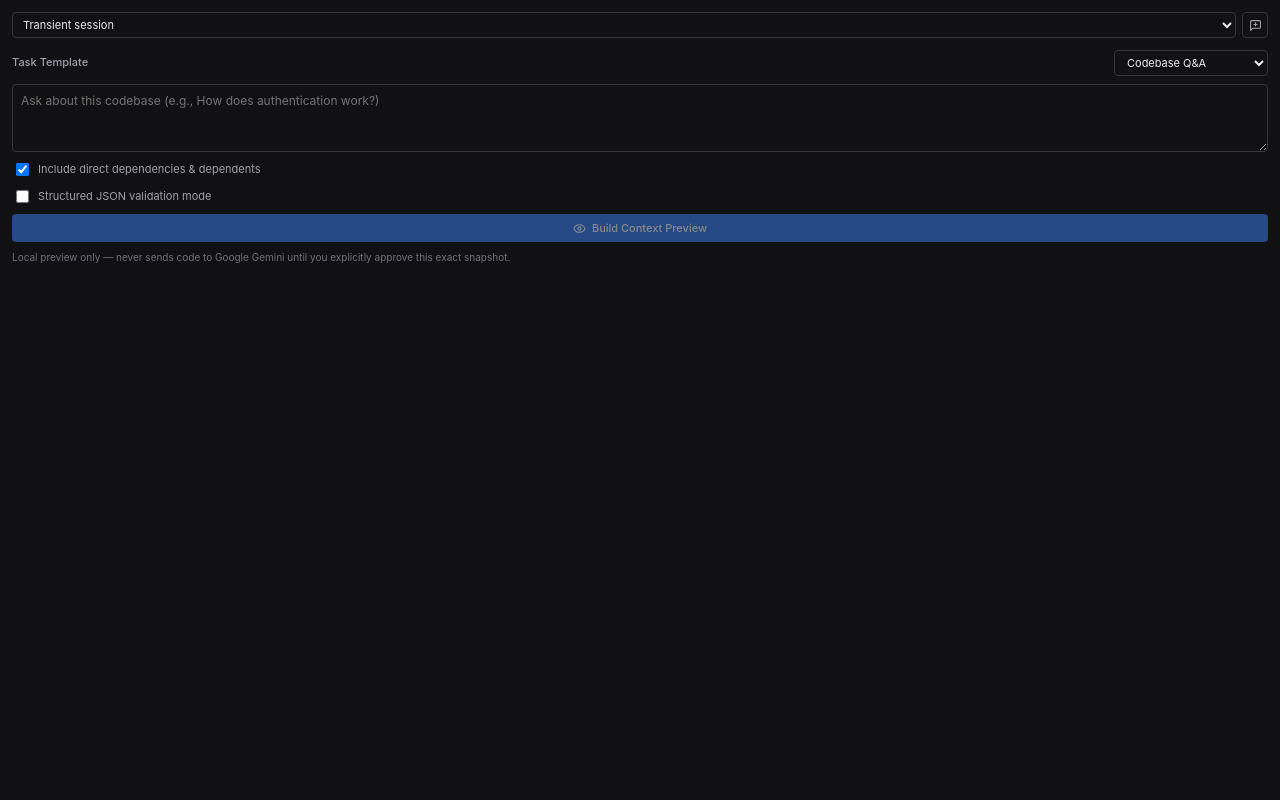
Test case: Milestone 5.3 — ContextPreviewPanel UI › builds a local context preview, requires explicit approval, and invalidates approval when context changes
The image size is (1280, 800).
Note: Enter query and build local preview
In the text box named "Context query": (640, 118) [12,84,1268,152], type "How does verifyToken work?"
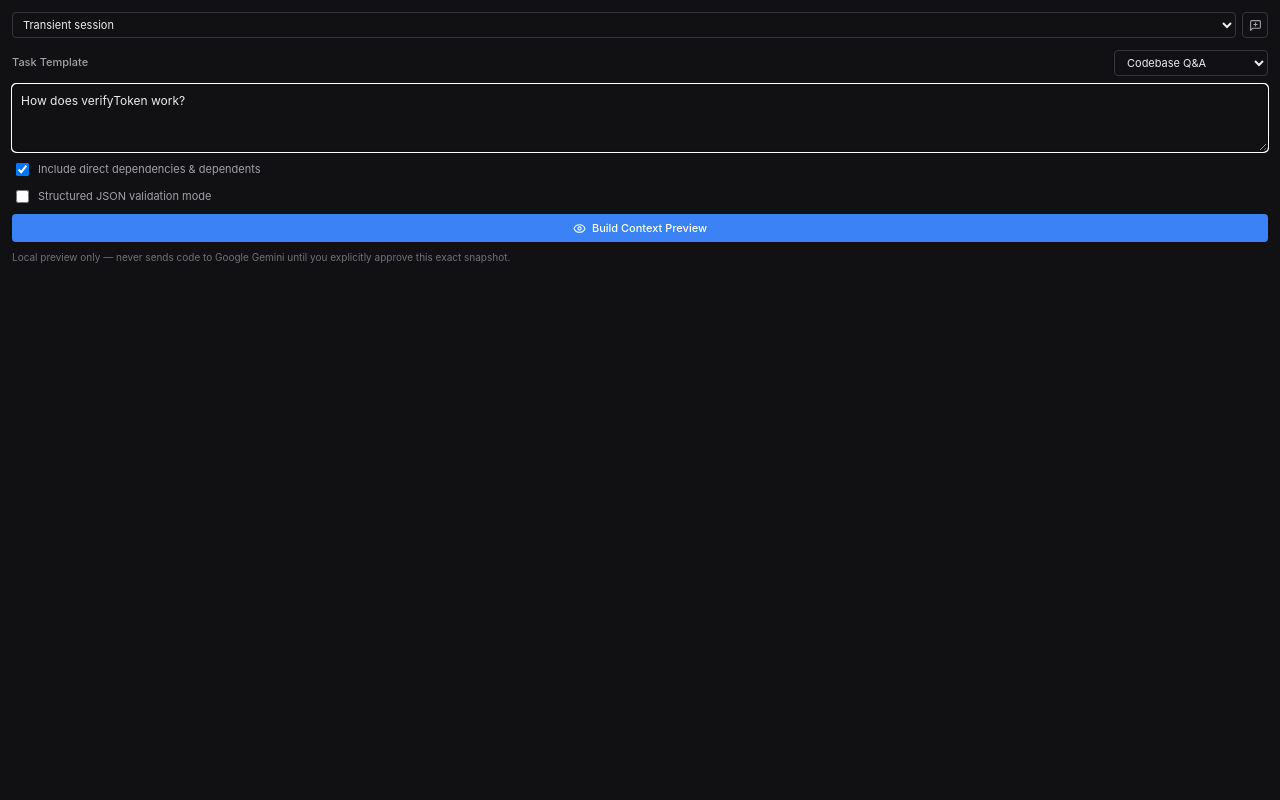
Click the button "Build Context Preview": click(640, 228) [12,214,1268,242]
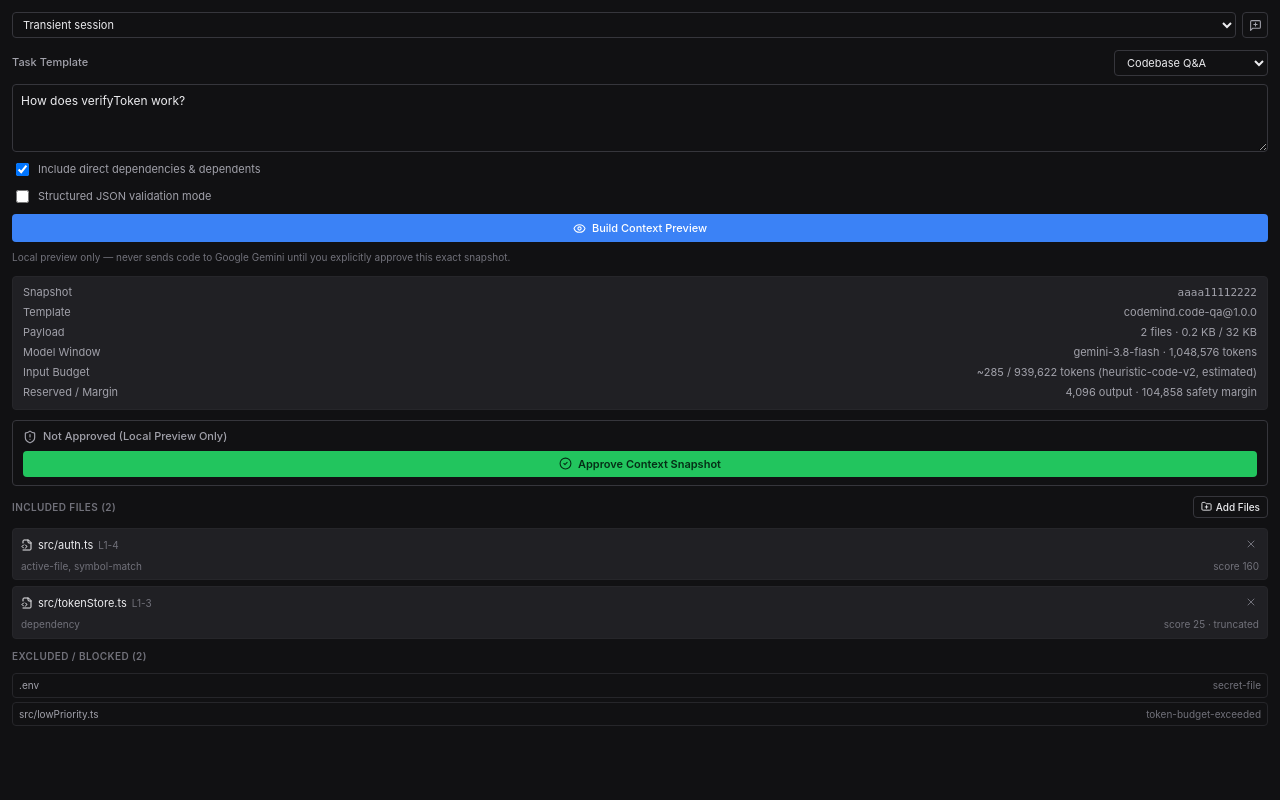
expect the element with test id "ai-context-snapshot" is shown: met, box [12,276,1268,726]
expect the text with test id "ai-snapshot-id" reads "aaaa11112222": met, box [1178,286,1257,299]
expect the text with test id "ai-budget-model" shows "gemini-3.8-flash": met, box [1073,345,1160,359]
Note: Explicitly approve snapshot V1
Click the button "Approve Context Snapshot": click(640, 464) [23,451,1257,477]
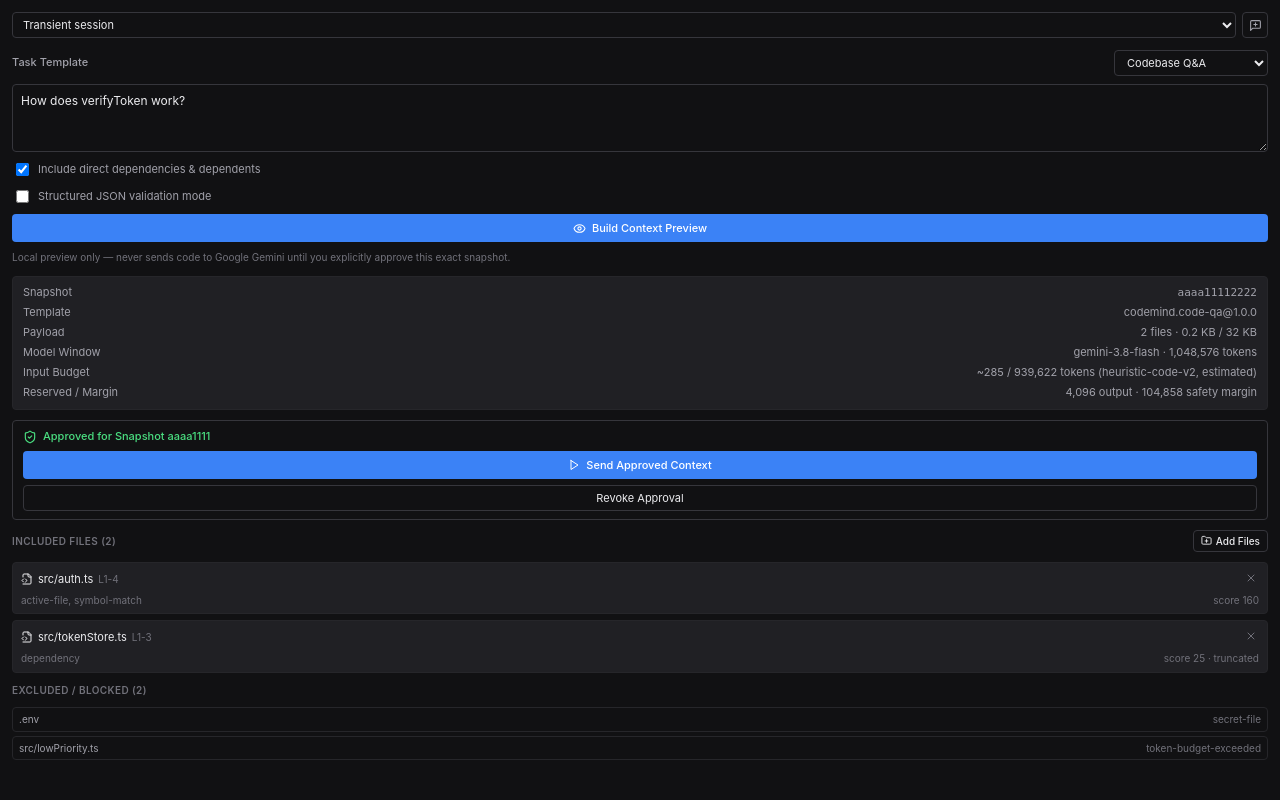
expect the element with test id "ai-approval-status" shows "Approved": met, box [43,429,168,443]
Click the button named "Exclude src/tokenStore.ts": click(1251, 638) [1243,628,1259,648]
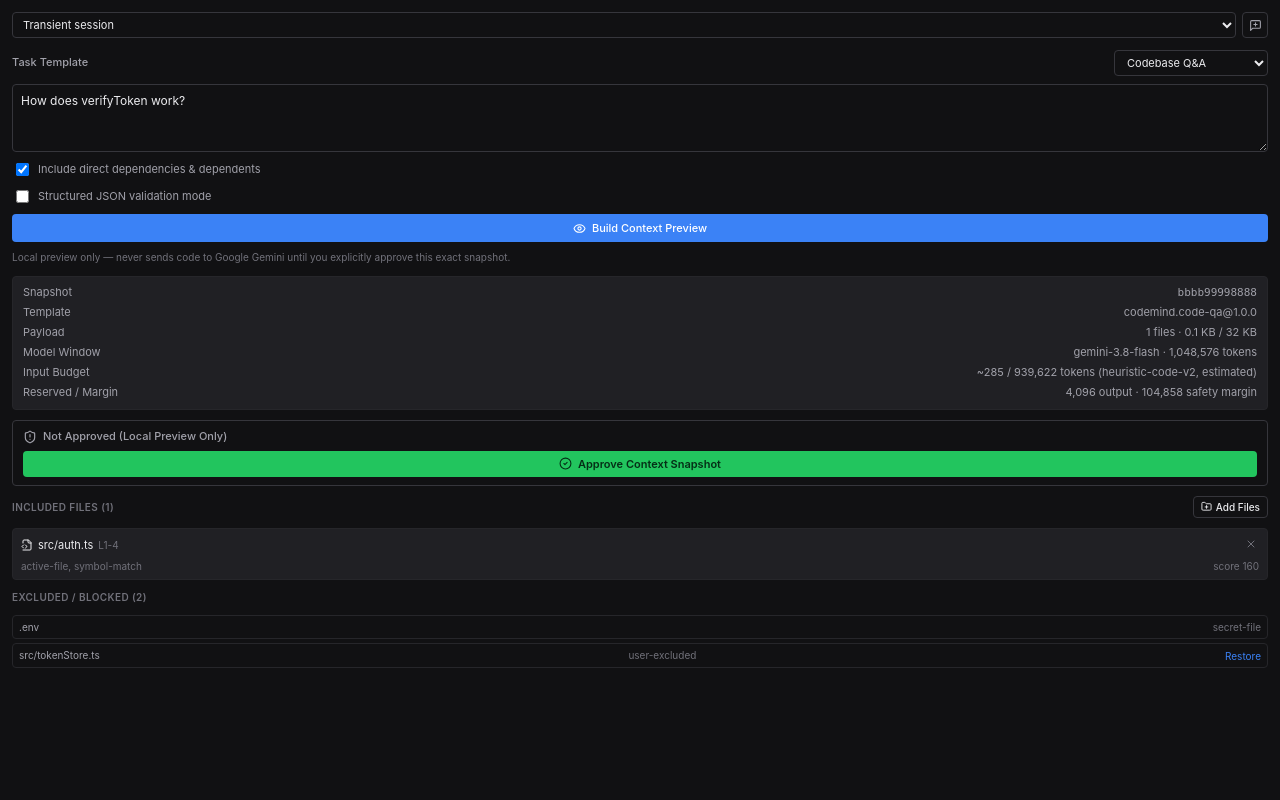
expect the text with test id "ai-snapshot-id" reads "bbbb99998888": met, box [1178,286,1257,299]
expect the element with test id "ai-approval-status" shows "Not Approved": met, box [43,429,227,443]
